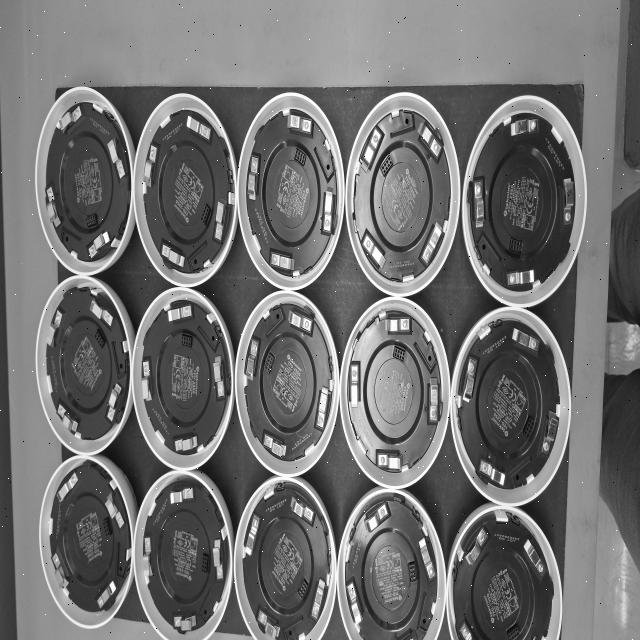yayli: (359, 125, 384, 174), (360, 228, 386, 271), (416, 118, 441, 161), (421, 222, 443, 268), (464, 528, 488, 568), (523, 538, 546, 578), (540, 412, 559, 458), (363, 501, 390, 533), (290, 494, 316, 527), (478, 458, 506, 488), (314, 386, 332, 431), (346, 579, 363, 626), (418, 537, 436, 581), (107, 139, 126, 180), (462, 357, 478, 403), (288, 307, 314, 335), (57, 469, 79, 502), (257, 608, 281, 638), (46, 309, 64, 348), (262, 432, 287, 460), (512, 328, 540, 353), (58, 105, 82, 134), (245, 337, 260, 382), (245, 514, 261, 556), (87, 231, 110, 260), (508, 117, 539, 138), (186, 115, 210, 142), (52, 551, 69, 589), (90, 299, 113, 327), (46, 188, 61, 230), (311, 578, 326, 620), (56, 406, 78, 434), (321, 191, 335, 235), (144, 144, 158, 188), (106, 384, 122, 422), (161, 244, 185, 269), (473, 178, 485, 228), (247, 155, 260, 201), (376, 449, 403, 471), (214, 200, 227, 243), (269, 250, 294, 272), (287, 112, 312, 134), (213, 356, 226, 397), (563, 179, 574, 226), (97, 582, 116, 609), (430, 378, 441, 424), (386, 316, 412, 335), (349, 362, 360, 406), (104, 492, 120, 522), (506, 270, 534, 287), (173, 612, 196, 632), (213, 538, 224, 579), (142, 362, 153, 403), (170, 486, 193, 505), (168, 304, 192, 322), (144, 536, 154, 578), (174, 436, 197, 453)
